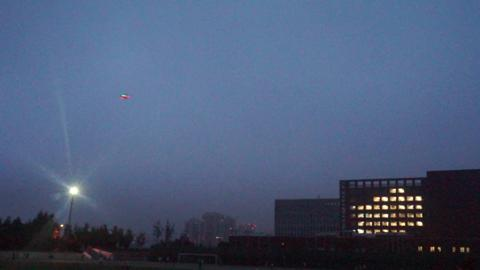UAV: (120, 94, 130, 100)
